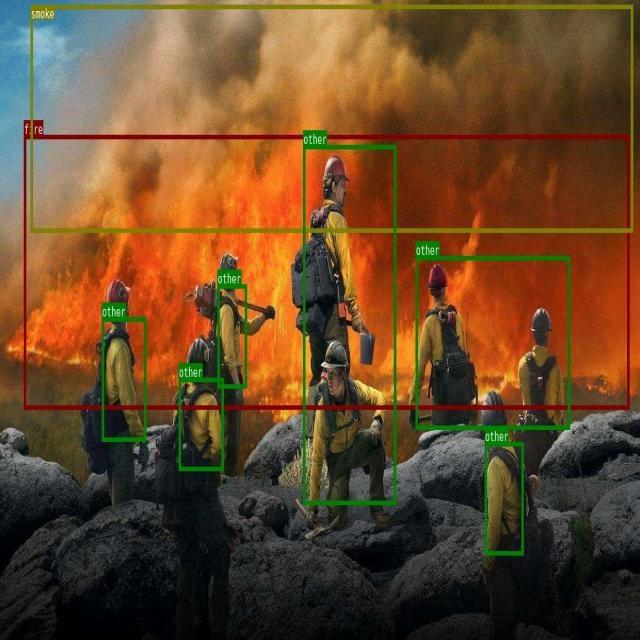fire: (24, 135, 629, 409)
smoke: (30, 4, 632, 231)
